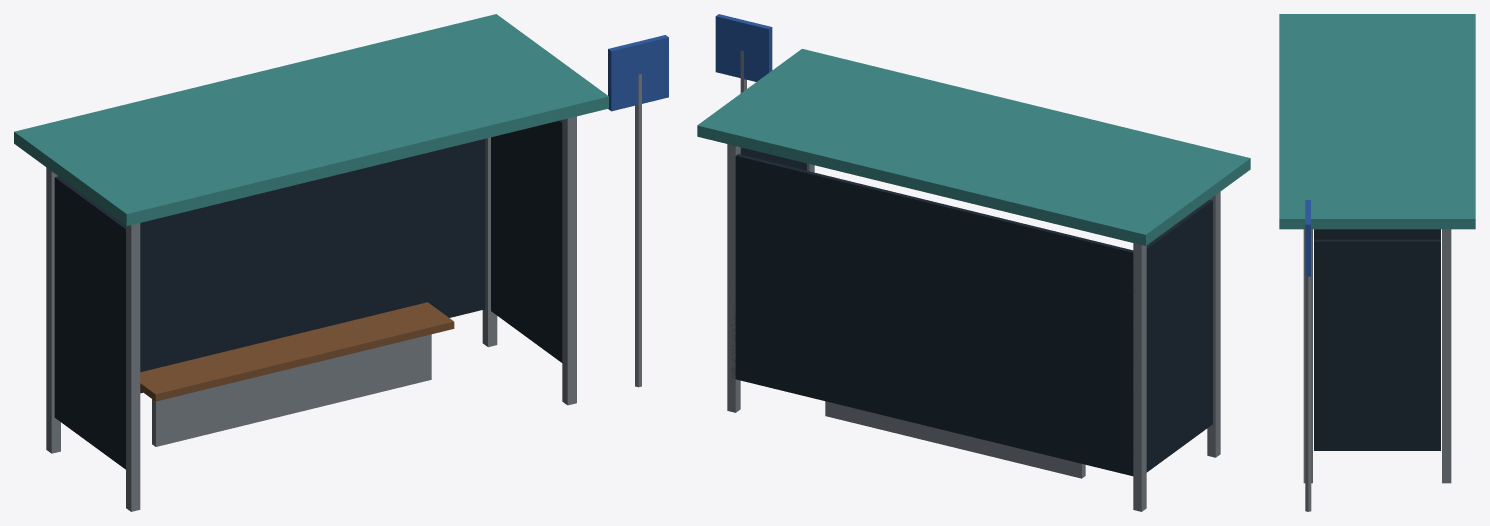
Rendered from bus_stop.glb.
The picture shows the model from 3 angles, left to right: view 1: azimuth 30°, elevation 25°; view 2: azimuth 150°, elevation 25°; view 3: azimuth 270°, elevation 25°; orthographic projection. The views are drawn at different scales.
Parts seen in each view (by area): view 1: bus_stop_Body; view 2: bus_stop_Body; view 3: bus_stop_Body.
Part boxes in pixels (x1=…): bus_stop_Body: x1=14, y1=14, x2=668, y2=511; bus_stop_Body: x1=697, y1=14, x2=1250, y2=511; bus_stop_Body: x1=1279, y1=14, x2=1475, y2=511.
Size of the model in its own units: 4.85 by 2.85 by 1.7.
